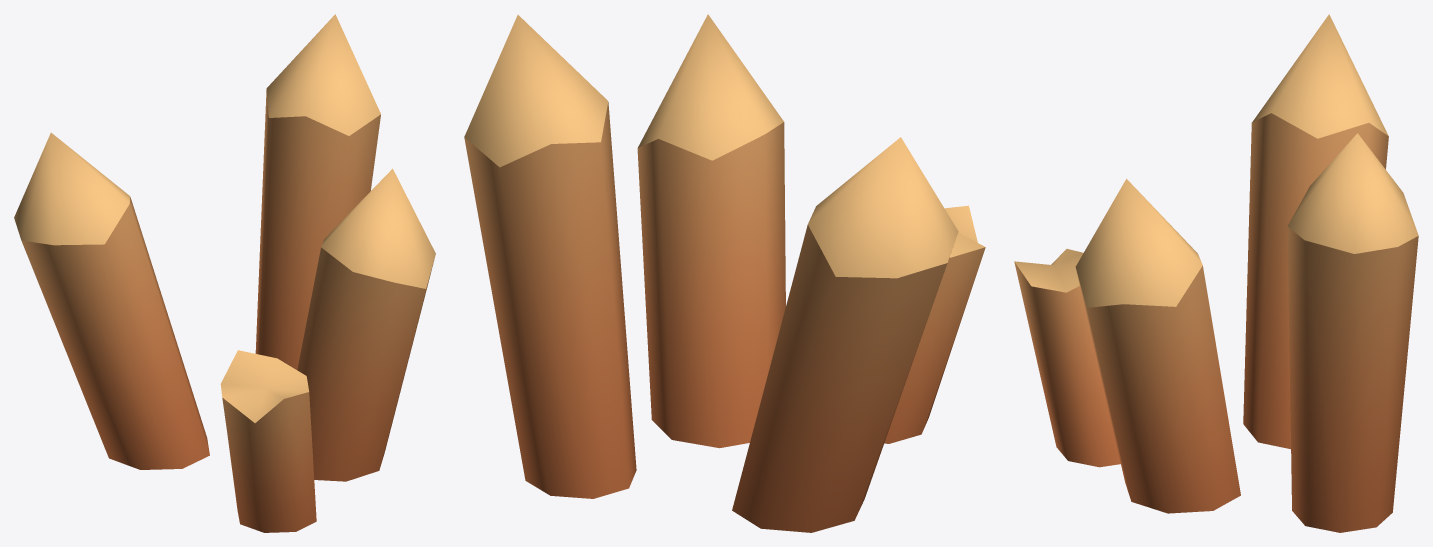
The model's file is platform_kit032.fbx.
3 views of the same model, side by side, from view 1: azimuth 30°, elevation 25°; view 2: azimuth 150°, elevation 25°; view 3: azimuth 270°, elevation 25° (orthographic). The views are drawn at different scales.
Parts seen in each view (by area): view 1: platform_kit032; view 2: platform_kit032; view 3: platform_kit032.
Part boxes in pixels (x1,y1,x2,y2): platform_kit032: (14,14,435,532); platform_kit032: (464,14,985,532); platform_kit032: (1014,14,1418,532).
Size of the model in its own units: 93.39 by 90.59 by 81.27.
Materials: 1 (1 with a texture image).
